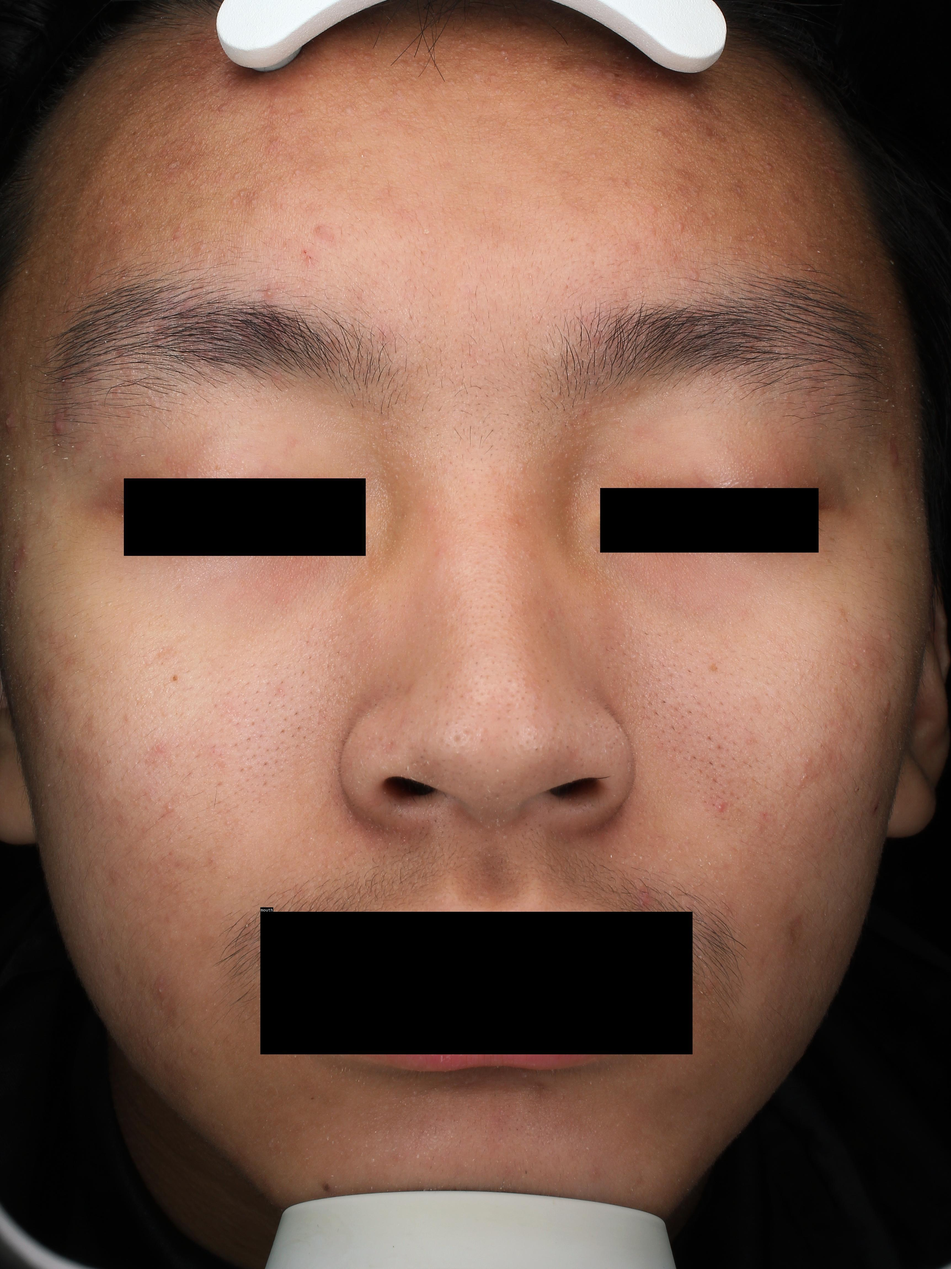atrophic_scar: (146, 644, 177, 665), (789, 911, 805, 944), (452, 732, 464, 746), (143, 770, 152, 777)
closed_comedo: (418, 57, 437, 69), (687, 267, 701, 282), (263, 287, 275, 299), (396, 59, 409, 69), (343, 105, 354, 115), (360, 147, 371, 157), (171, 230, 183, 239), (499, 47, 509, 57), (551, 390, 561, 400), (231, 197, 240, 207), (618, 99, 628, 108), (165, 804, 174, 813), (396, 79, 405, 88), (538, 77, 548, 85), (237, 190, 246, 198), (249, 198, 258, 206), (368, 76, 377, 84), (766, 163, 774, 172), (521, 1072, 530, 1080), (253, 172, 263, 179), (596, 104, 606, 111), (233, 172, 241, 180), (198, 243, 207, 250), (681, 130, 690, 137), (97, 196, 104, 205), (560, 118, 570, 124), (805, 756, 812, 764), (495, 87, 503, 94), (656, 130, 665, 136), (589, 153, 598, 159), (294, 169, 301, 175), (706, 212, 713, 218), (188, 179, 194, 186), (191, 1047, 197, 1054), (519, 465, 525, 472), (569, 110, 575, 116), (711, 210, 717, 216), (262, 110, 268, 116), (543, 58, 549, 64), (277, 687, 284, 692), (423, 229, 429, 234), (729, 236, 734, 242), (797, 782, 802, 787), (24, 270, 29, 275), (178, 223, 183, 228), (685, 206, 689, 211)
melasma: (706, 663, 722, 673)
nevus: (322, 1181, 332, 1192), (172, 674, 178, 681)
open_comedo: (749, 737, 755, 743), (309, 1096, 315, 1100), (857, 788, 861, 791)
papule: (638, 886, 653, 910), (515, 21, 531, 32), (54, 417, 65, 432), (111, 388, 124, 399), (167, 160, 181, 170), (12, 559, 22, 572), (605, 70, 617, 80), (217, 102, 228, 112), (883, 699, 892, 711), (303, 71, 315, 79), (677, 220, 685, 232), (893, 449, 899, 463), (884, 632, 892, 642), (650, 205, 658, 215)
pustule: (5, 415, 15, 432), (716, 801, 726, 812), (849, 660, 859, 669), (157, 987, 164, 995), (862, 647, 869, 655)
